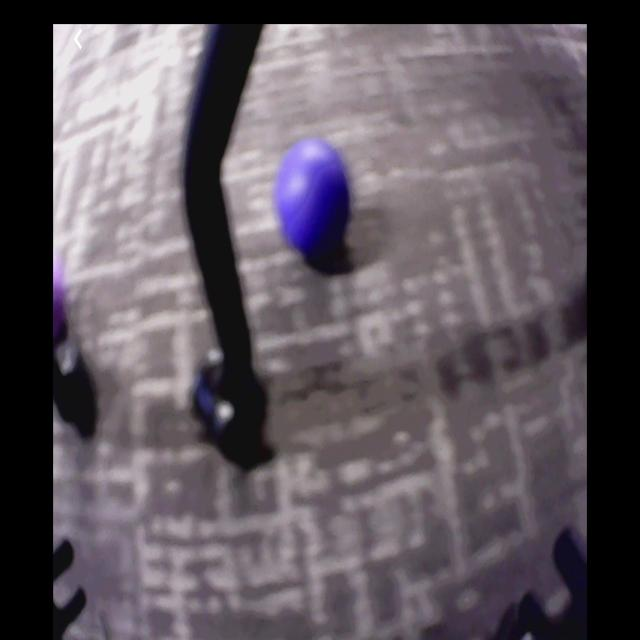ball: (276, 138, 347, 256), (54, 261, 72, 348)
